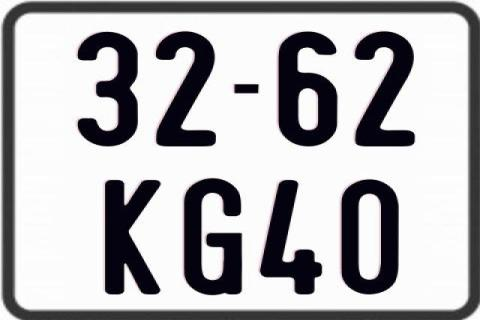0: (260, 178, 326, 294), (156, 31, 218, 151), (352, 30, 414, 146), (77, 31, 139, 146), (276, 31, 336, 149), (339, 179, 399, 297)
G: (184, 176, 244, 293)
K: (105, 180, 163, 296)
